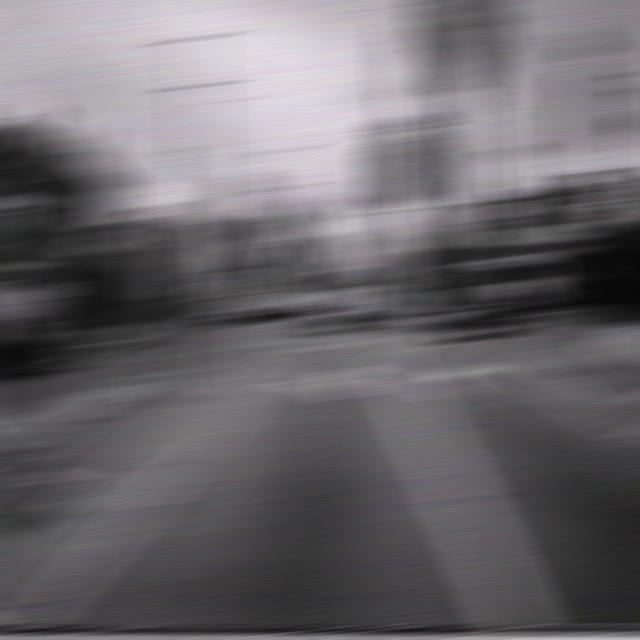stop_sign: (213, 172, 273, 242), (526, 181, 581, 238)
